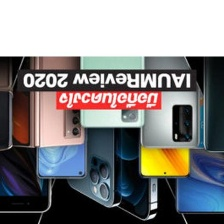phone: (77, 76, 161, 222), (0, 45, 51, 216), (172, 58, 224, 217), (134, 33, 203, 149), (77, 19, 147, 133), (58, 93, 124, 212), (131, 78, 195, 183), (27, 41, 87, 149), (32, 88, 91, 180), (198, 37, 224, 155), (0, 33, 16, 155)
